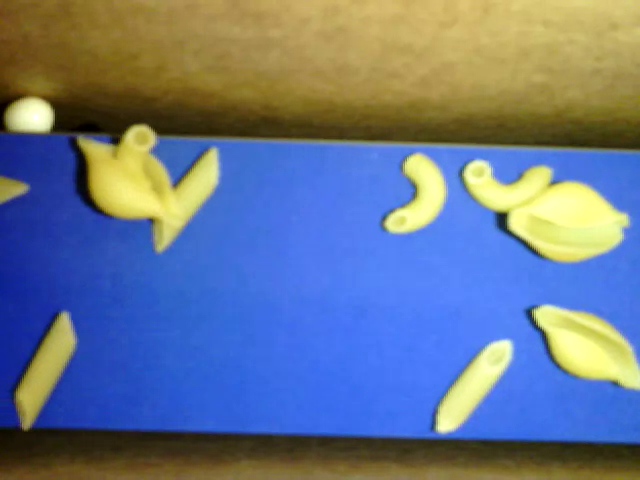elbow: (383, 153, 447, 232), (461, 158, 552, 211), (117, 124, 158, 192)
penne: (434, 337, 513, 436), (14, 310, 78, 430), (153, 145, 220, 254)
shell: (505, 179, 629, 262), (530, 304, 639, 391), (77, 136, 182, 224)
